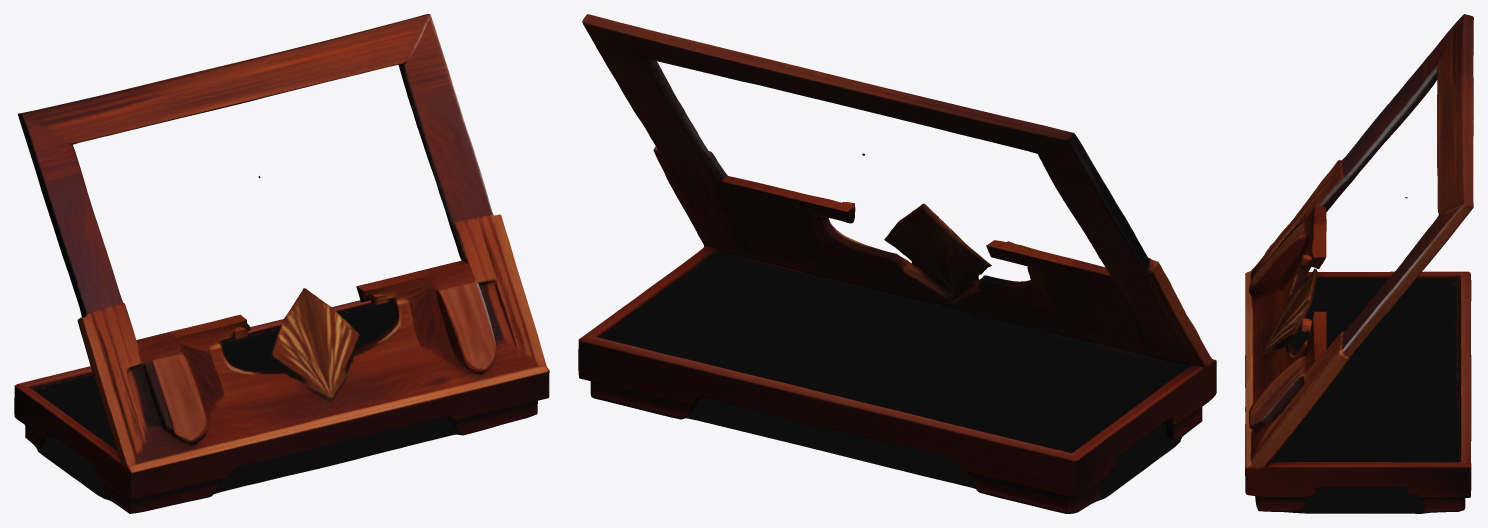
The model's file is wooden-tablet-stand-art-deco.jpeg.glb.
The picture shows the model from 3 angles, left to right: view 1: azimuth 30°, elevation 25°; view 2: azimuth 150°, elevation 25°; view 3: azimuth 270°, elevation 25°; orthographic projection. The views are drawn at different scales.
Visible parts, largest first — view 1: world; view 2: world; view 3: world.
Part boxes in pixels (left/top/right/bottom): world: left=14, top=14, right=549, bottom=513; world: left=578, top=14, right=1216, bottom=513; world: left=1245, top=14, right=1473, bottom=513.
Size of the model in its own units: 1 by 0.735 by 0.4947.
Materials: 1 (1 with a texture image).
